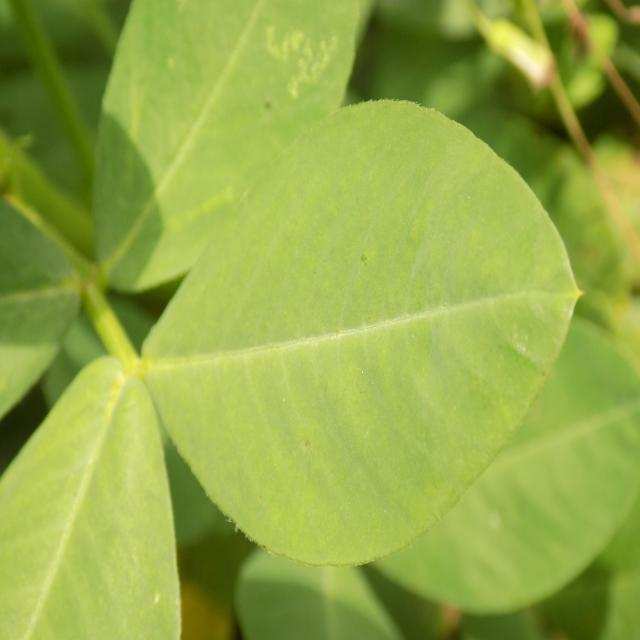Ground nut_healthy: (144, 100, 586, 570)
